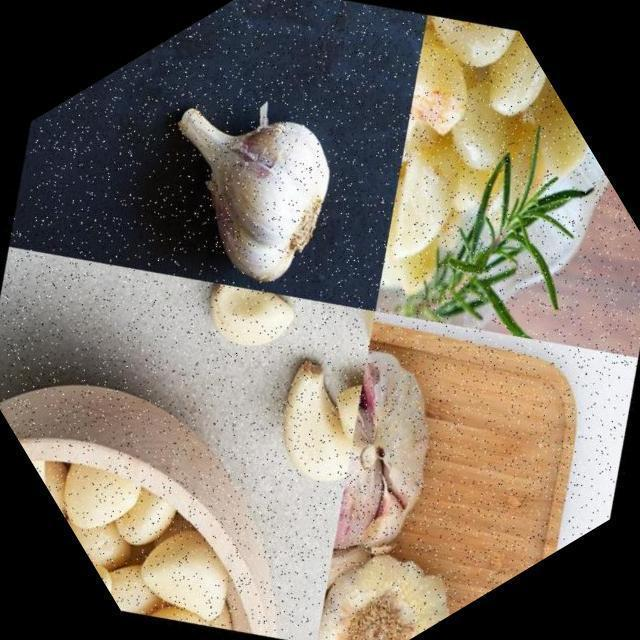garlic: (266, 0, 640, 397), (79, 25, 412, 359), (7, 324, 326, 640), (253, 313, 528, 592), (222, 326, 412, 518), (275, 486, 487, 640), (177, 246, 321, 390)
